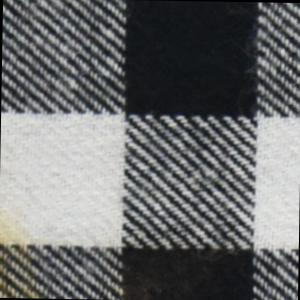Oil Stain: (1, 225, 40, 299)
